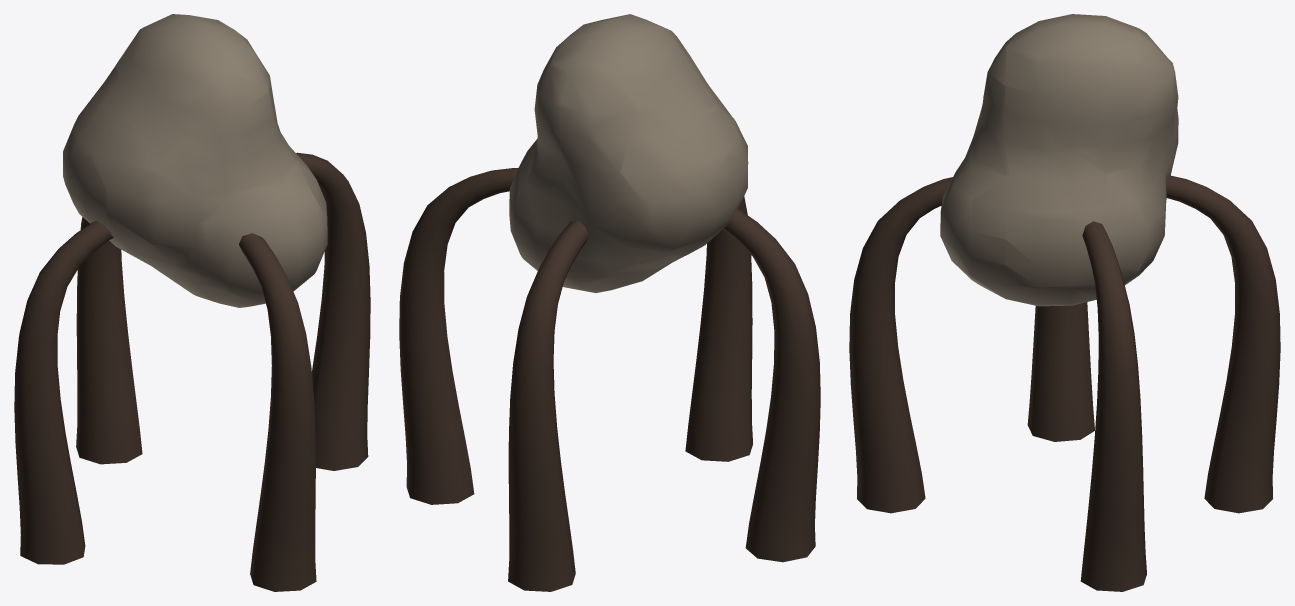
File: quaternius-ultimate-space-tree-blob-3.glb
The picture shows the model from 3 angles, left to right: view 1: azimuth 30°, elevation 25°; view 2: azimuth 150°, elevation 25°; view 3: azimuth 270°, elevation 25°; orthographic projection. The views are drawn at different scales.
Visible parts, largest first — view 1: Tree_Blob_3; view 2: Tree_Blob_3; view 3: Tree_Blob_3.
Part boxes in pixels (x1,y1,x2,y2): Tree_Blob_3: (14,14,370,591); Tree_Blob_3: (399,14,820,591); Tree_Blob_3: (849,14,1280,591).
Bounding box in the file's own units: 2.8 × 3.42 × 2.77.
1 material, 1 textured.
